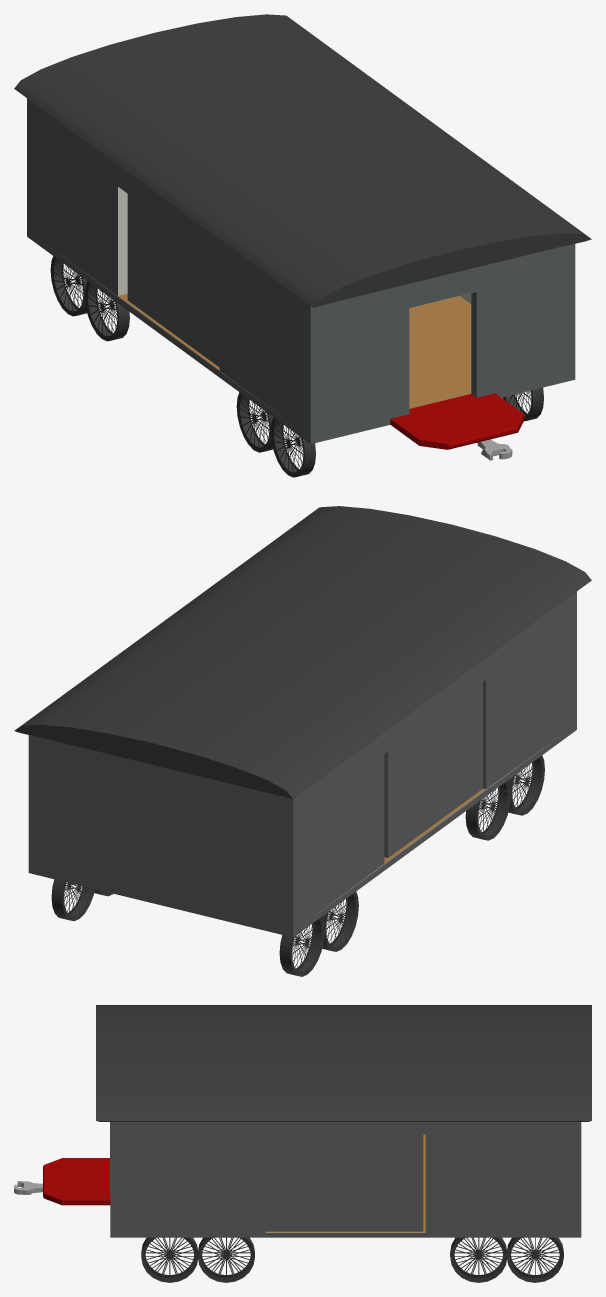
File: poor-car2.fbx
3 views of the same model, one above another, from view 1: azimuth 30°, elevation 25°; view 2: azimuth 150°, elevation 25°; view 3: azimuth 270°, elevation 25° (orthographic). The views are drawn at different scales.
Parts seen in each view (by area): view 1: Roof, Poor_Car, Wheel13, Wheel14, Wheel12, Wheel15, Wheel8; view 2: Roof, Poor_Car, Wheel12, Wheel15, Wheel13, Wheel14, Wheel10; view 3: Roof, Poor_Car, Wheel11, Wheel8, Wheel9, Wheel10.
Boxes of the visible parts, x1,y1,x2,y2 form: Roof: (14, 14, 591, 307); Poor_Car: (27, 98, 575, 449); Wheel13: (84, 281, 129, 341); Wheel14: (270, 417, 315, 477); Wheel12: (50, 256, 95, 316); Wheel15: (236, 392, 281, 452); Wheel8: (502, 387, 543, 421); Roof: (14, 506, 591, 799); Poor_Car: (28, 591, 576, 937); Wheel12: (279, 916, 324, 976); Wheel15: (465, 780, 510, 840); Wheel13: (313, 892, 358, 951); Wheel14: (500, 755, 544, 815); Wheel10: (51, 879, 94, 921); Roof: (96, 1005, 591, 1121); Poor_Car: (43, 1122, 581, 1237); Wheel11: (450, 1237, 507, 1282); Wheel8: (141, 1237, 198, 1282); Wheel9: (198, 1237, 254, 1282); Wheel10: (506, 1237, 563, 1282).
Size of the model in its own units: 7.39 by 5.73 by 15.95.
